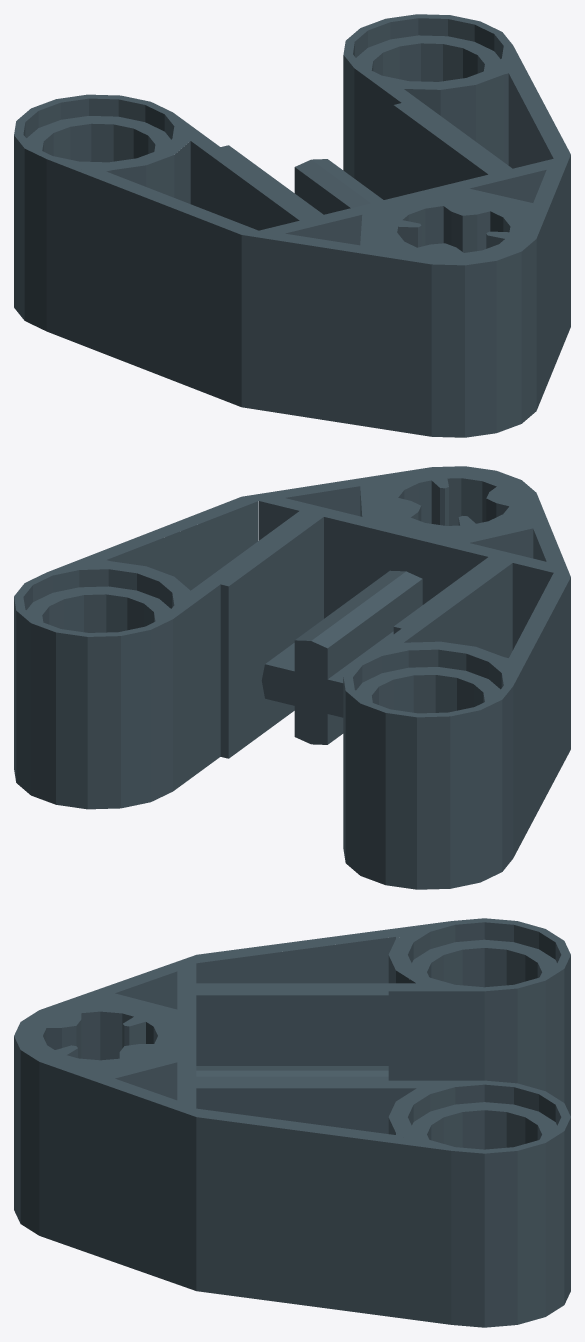
3 renders of one model, top to bottom at view 1: azimuth 30°, elevation 25°; view 2: azimuth 150°, elevation 25°; view 3: azimuth 270°, elevation 25°, orthographic.
Visible parts, largest first — view 1: world; view 2: world; view 3: world.
Boxes of the visible parts, x1,y1,x2,y2 form: world: (14,14,570,437); world: (14,466,570,889); world: (14,918,570,1327).
Size of the model in its own units: 0.0232 by 0.008 by 0.0232.
